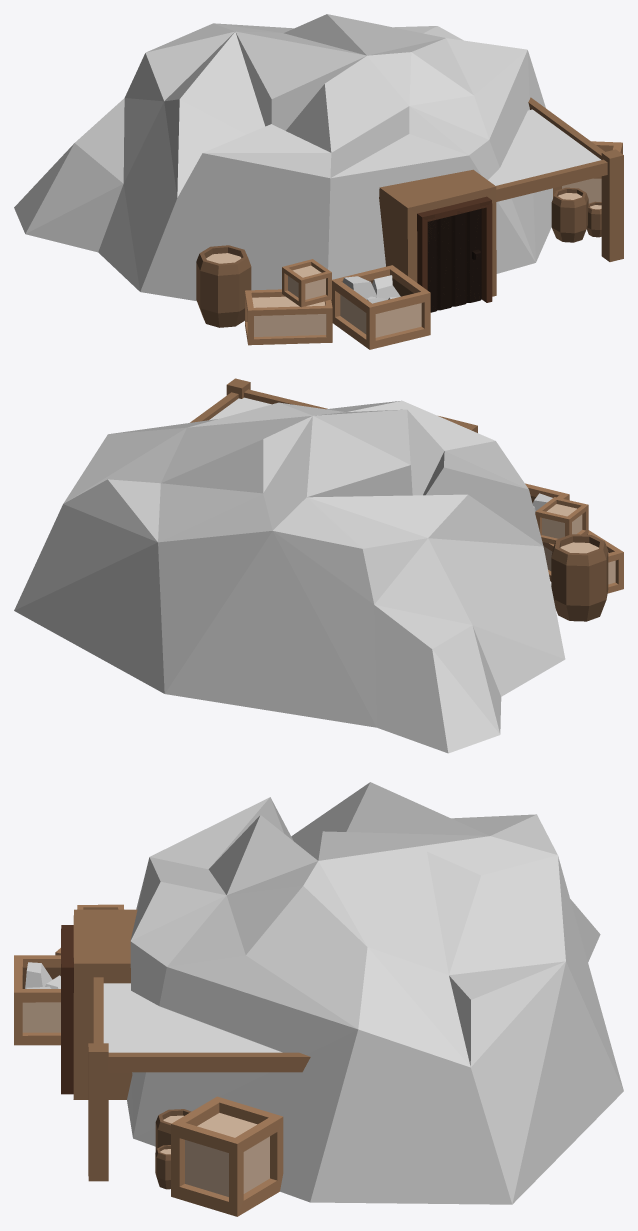
Rendered from mine.gltf.
3 renders of one model, top to bottom at view 1: azimuth 30°, elevation 25°; view 2: azimuth 150°, elevation 25°; view 3: azimuth 270°, elevation 25°, orthographic. The views are drawn at different scales.
Visible parts, largest first — view 1: Mine; view 2: Mine; view 3: Mine.
Boxes of the visible parts, x1,y1,x2,y2 form: Mine: (14, 14, 623, 349); Mine: (14, 378, 623, 753); Mine: (14, 782, 623, 1216).
Size of the model in its own units: 7.41 by 2.72 by 6.5.
Materials: 2 (1 with a texture image).
